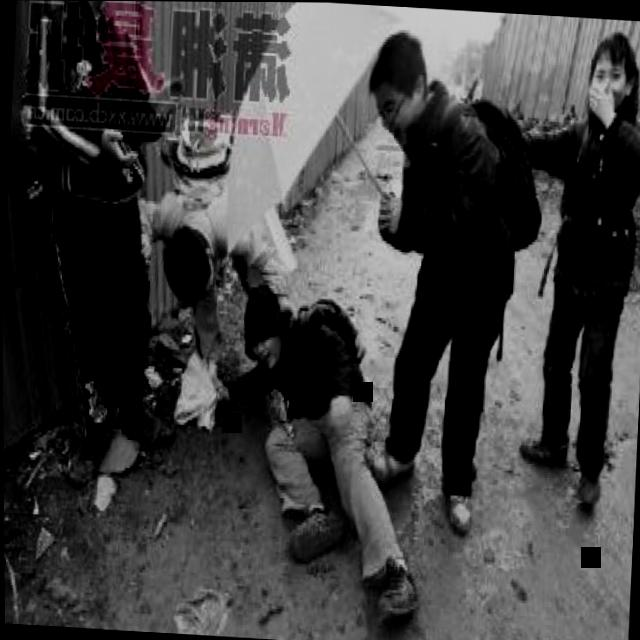Fall-Detected: (206, 265, 451, 615)
